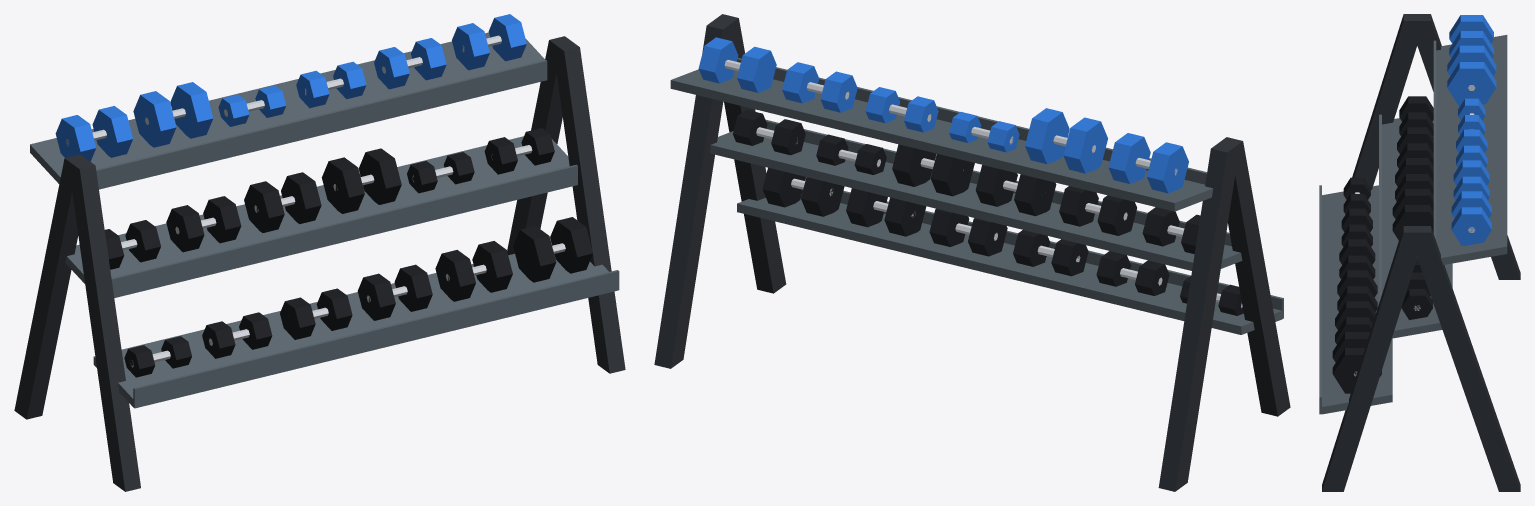
Rendered from weight_rack.glb.
The picture shows the model from 3 angles, left to right: view 1: azimuth 30°, elevation 25°; view 2: azimuth 150°, elevation 25°; view 3: azimuth 270°, elevation 25°; orthographic projection. The views are drawn at different scales.
Parts seen in each view (by area): view 1: weight_rack; view 2: weight_rack; view 3: weight_rack.
Part boxes in pixels (<box>): weight_rack: <box>14,14,625,491</box>; weight_rack: <box>654,14,1290,491</box>; weight_rack: <box>1319,14,1520,491</box>.
Bounding box in the file's own units: 1.9 × 1.11 × 0.74.
